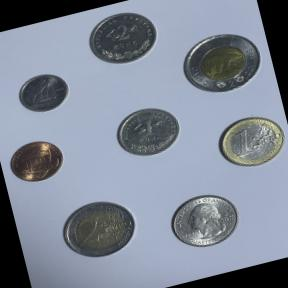1 Euro: (210, 108, 288, 175)
2 Euro: (52, 191, 146, 267)
Canda-10cent-: (12, 66, 78, 122)
Canda-2Dollar-: (172, 21, 274, 105)
Croatia-2Kune-: (80, 2, 166, 74)
US-1cent-: (1, 131, 72, 191)
US-25cent-: (162, 183, 248, 257)
